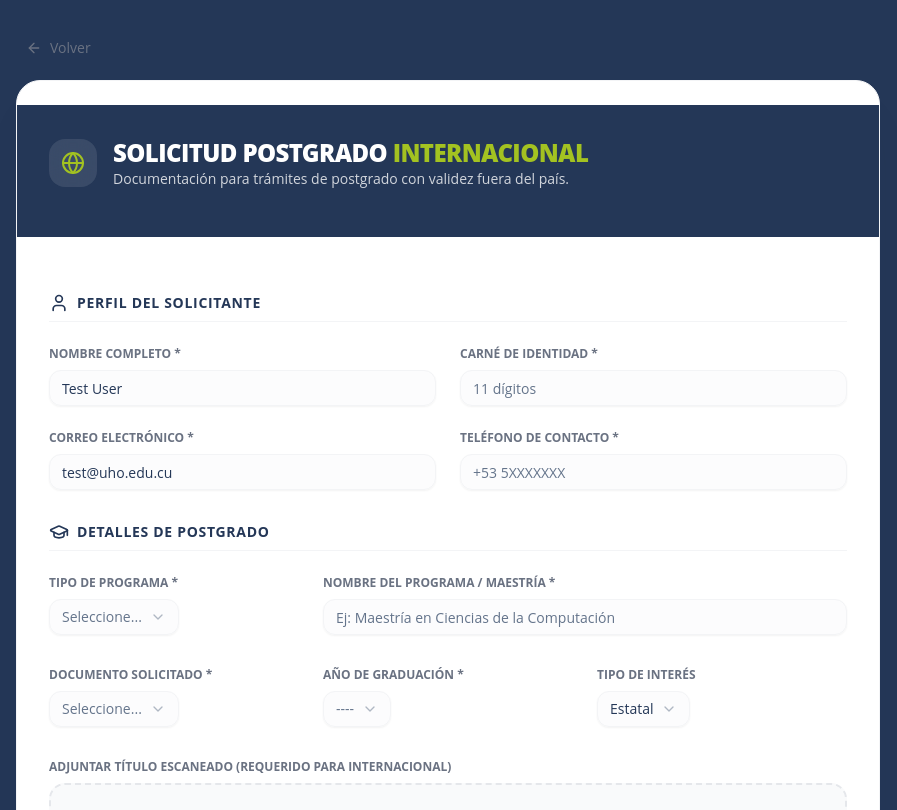
Test: PostInterProcedure validación común › rechaza carné con menos de 11 dígitos
The width and height of the screenshot is (897, 810).
Type "12345" into the field labelled "Carné de Identidad *" at (654, 388), box [460,370,847,406]
(page scrolled)
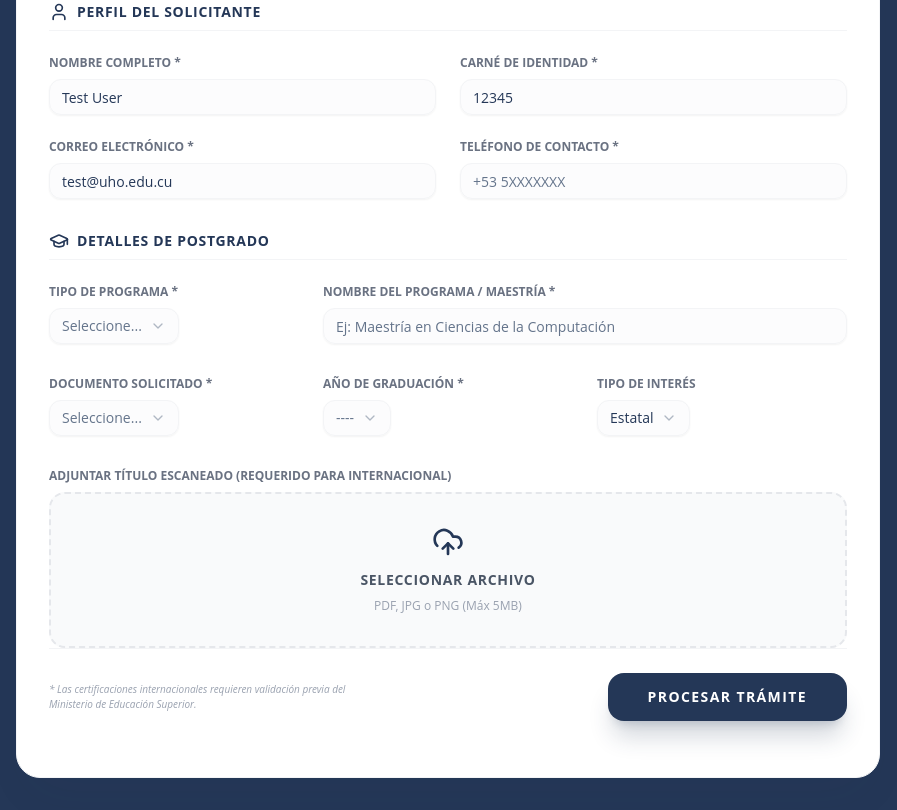
Click the button "Procesar Trámite" at (727, 697), box [608,673,847,721]
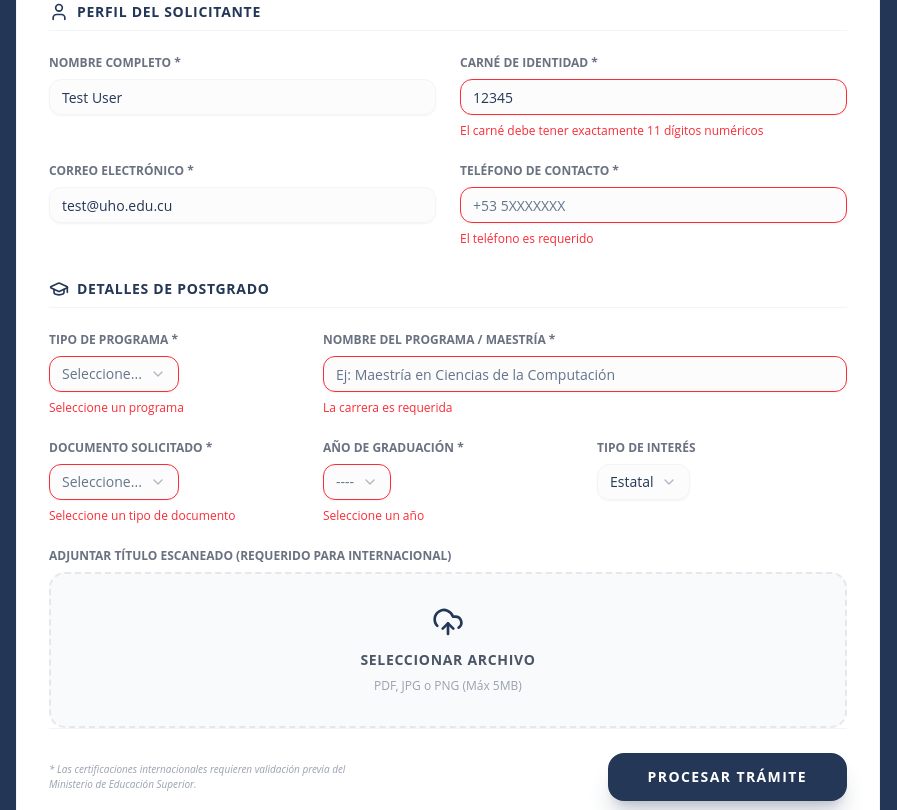
Check: the text "El carné debe tener exactamente 11 dígitos numéricos" is shown, box [460,122,764,139]
